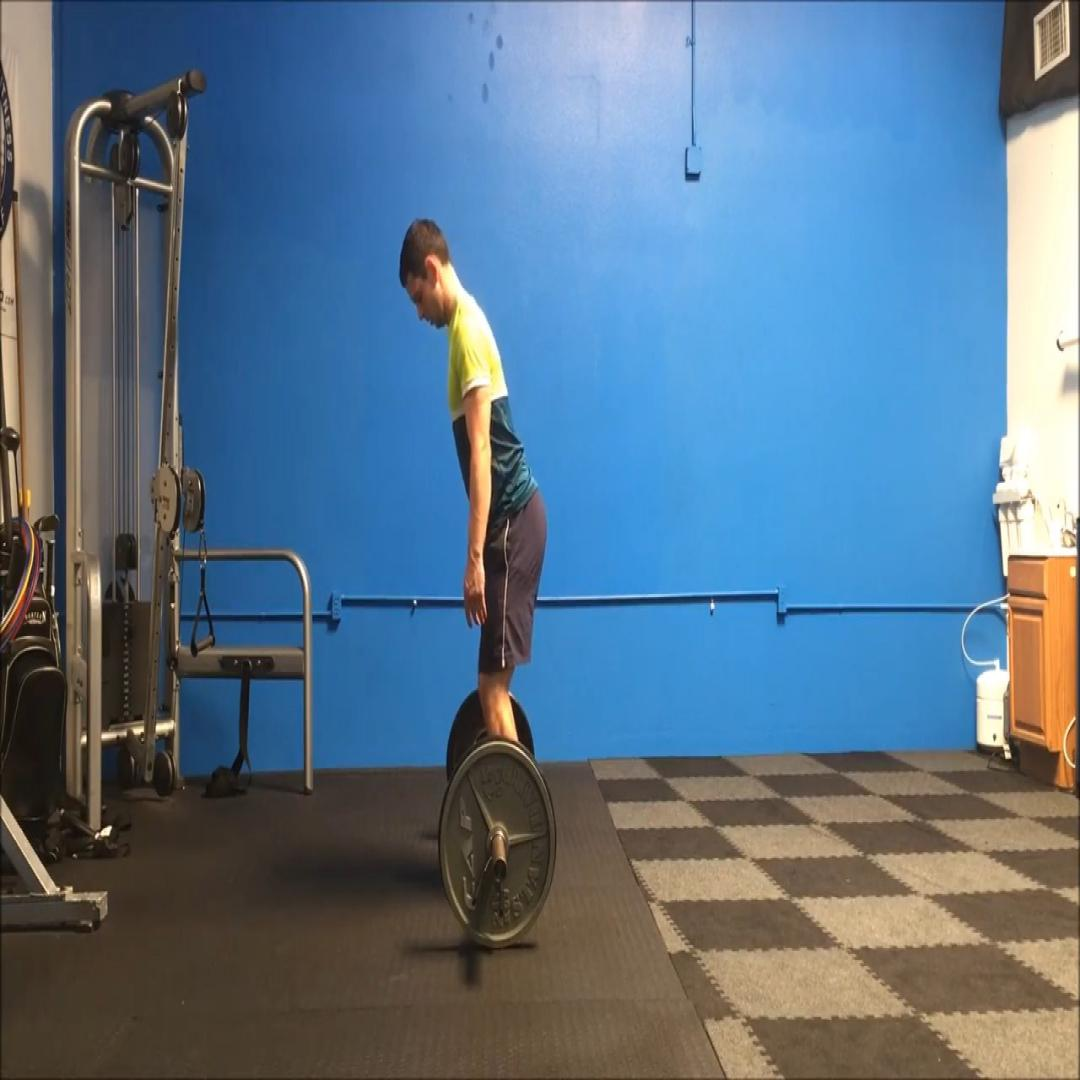Bar: (493, 858, 508, 883)
Barbell: (440, 740, 556, 948)
